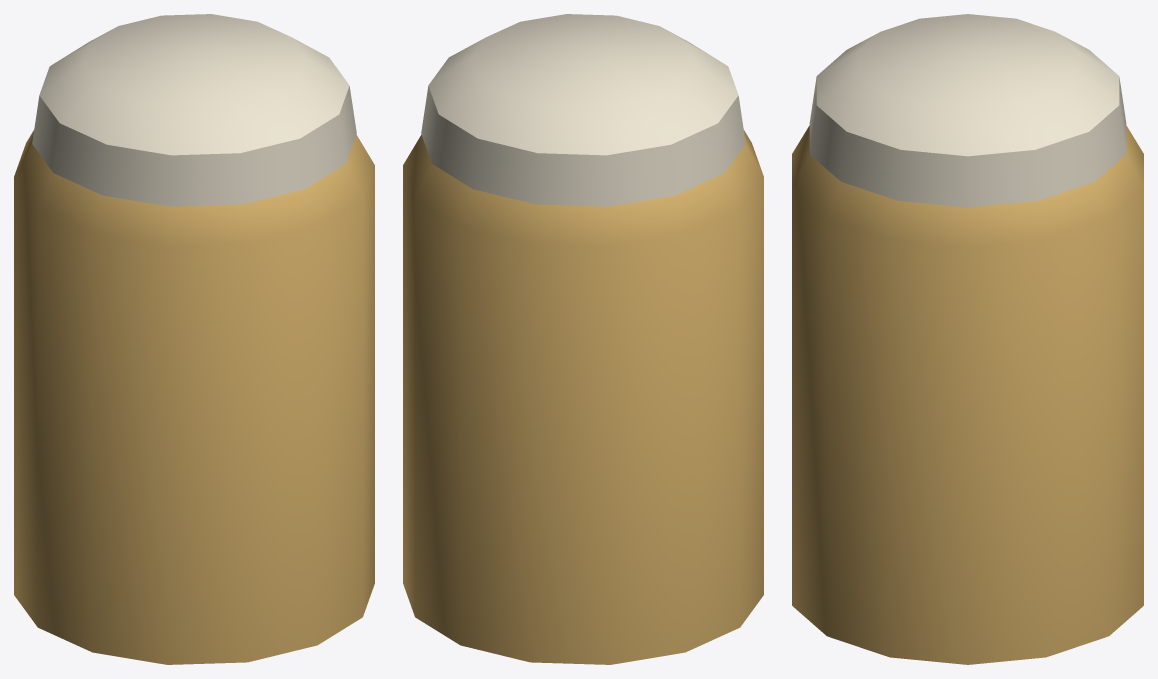
File: tpl_dispensa_vaso_m_ceci_giuseppe.glb
3 views of the same model, side by side, from view 1: azimuth 30°, elevation 25°; view 2: azimuth 150°, elevation 25°; view 3: azimuth 270°, elevation 25° (orthographic).
Parts seen in each view (by area): view 1: tpl_dispensa_vaso_m_ceci_giuseppe; view 2: tpl_dispensa_vaso_m_ceci_giuseppe; view 3: tpl_dispensa_vaso_m_ceci_giuseppe.
Boxes of the visible parts, bbox=[...] form: tpl_dispensa_vaso_m_ceci_giuseppe: bbox=[14, 14, 374, 664]; tpl_dispensa_vaso_m_ceci_giuseppe: bbox=[403, 14, 763, 664]; tpl_dispensa_vaso_m_ceci_giuseppe: bbox=[792, 14, 1143, 664].
Bounding box in the file's own units: 0.11 × 0.18 × 0.1072.
